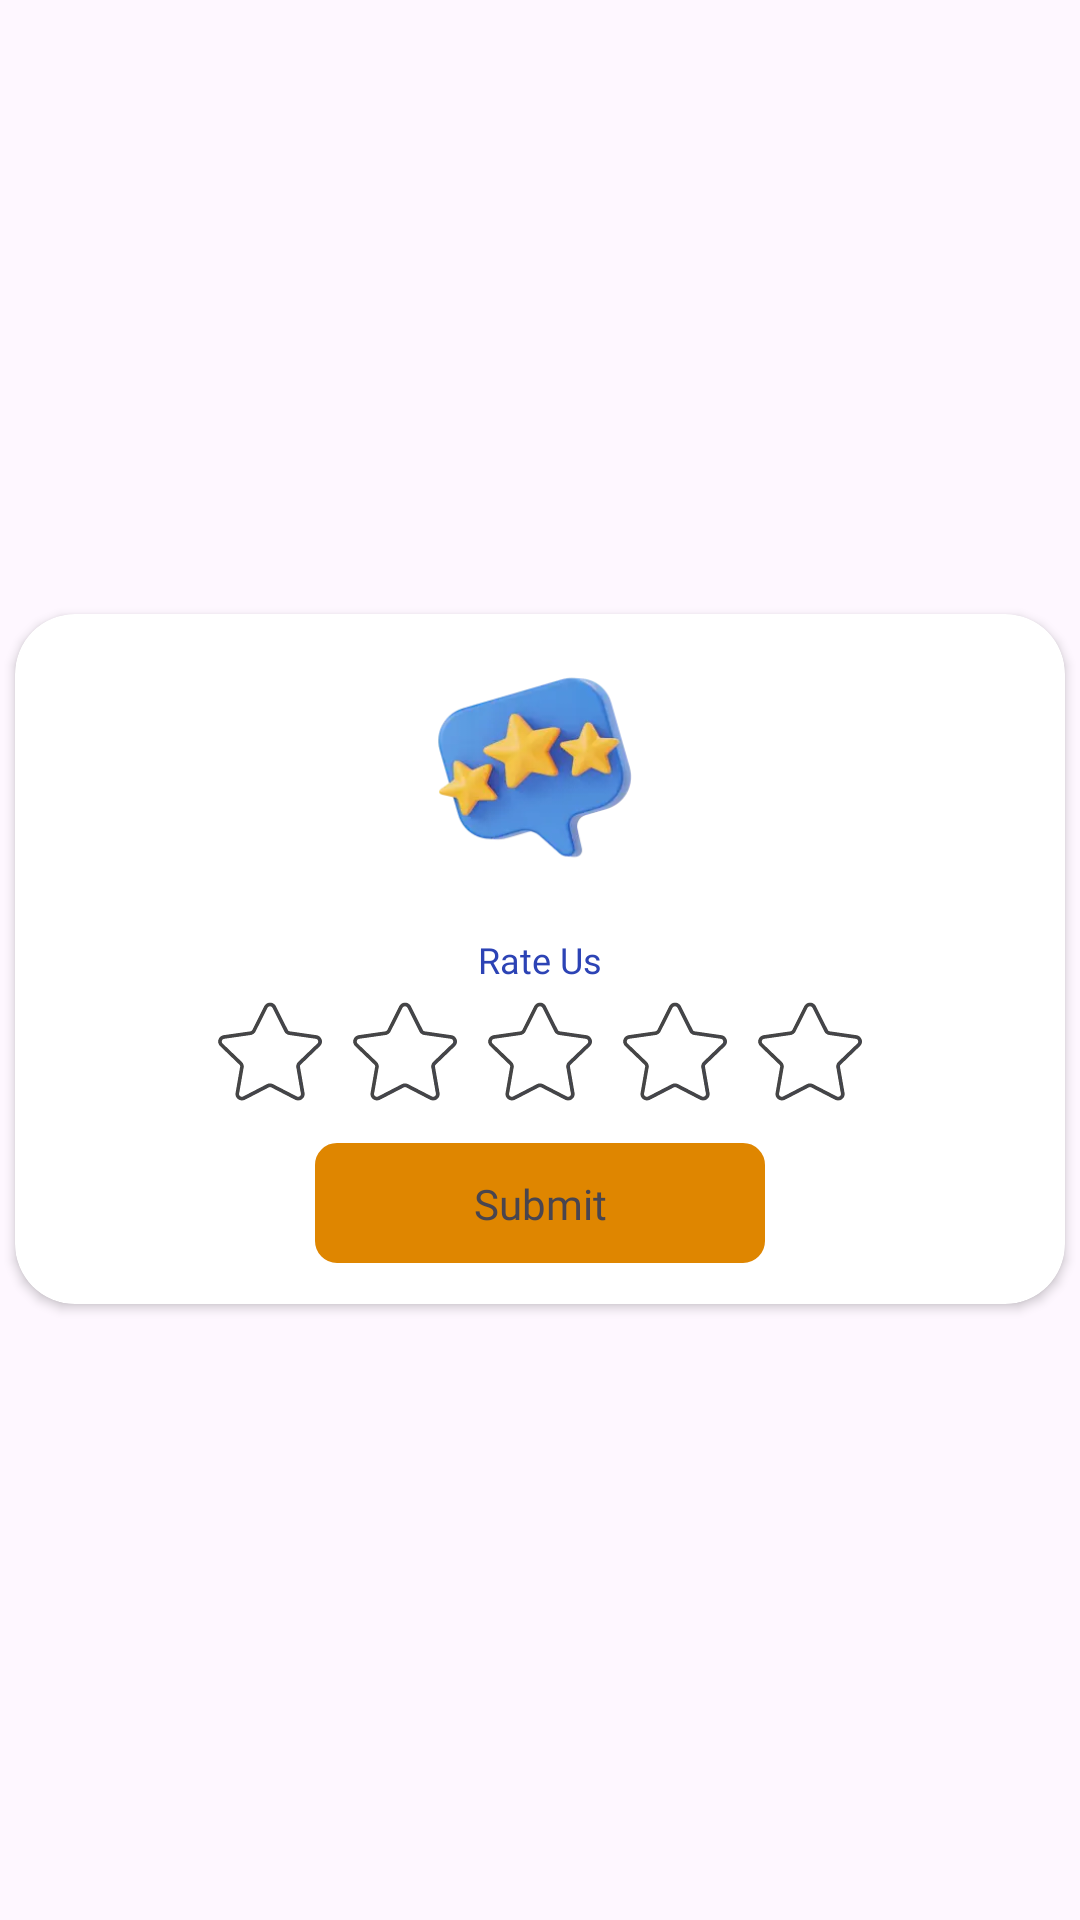

Screen size 1080×1920. Icon name, then its center in pixels as point (x, y):
rate star empty: point (270, 1051), point (405, 1051), point (540, 1051), point (675, 1051), point (810, 1051)
